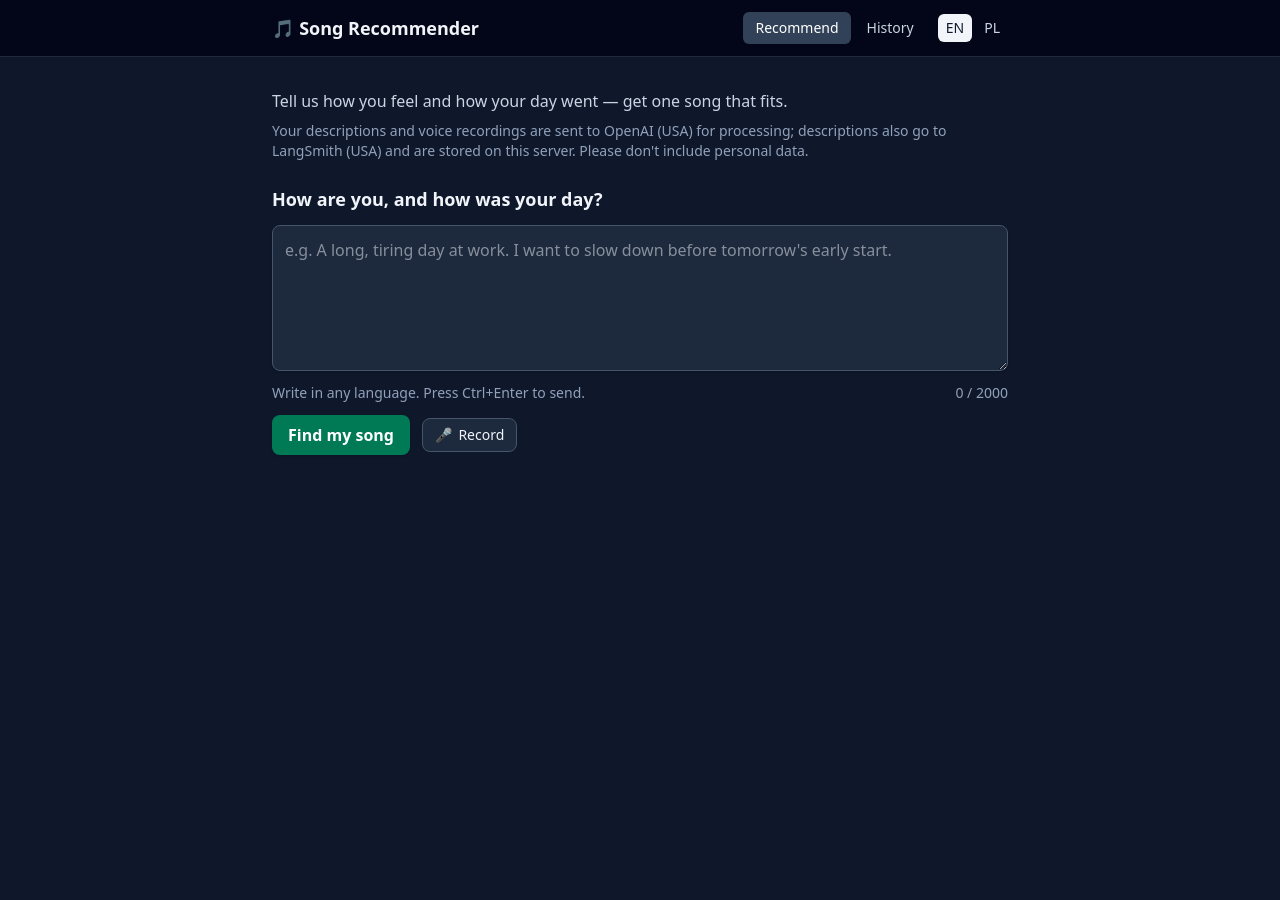
voice input › records, shows the editable transcript and sends it as voice input
Click the button "🎤 Record" at (470, 435), box [422,418,517,452]
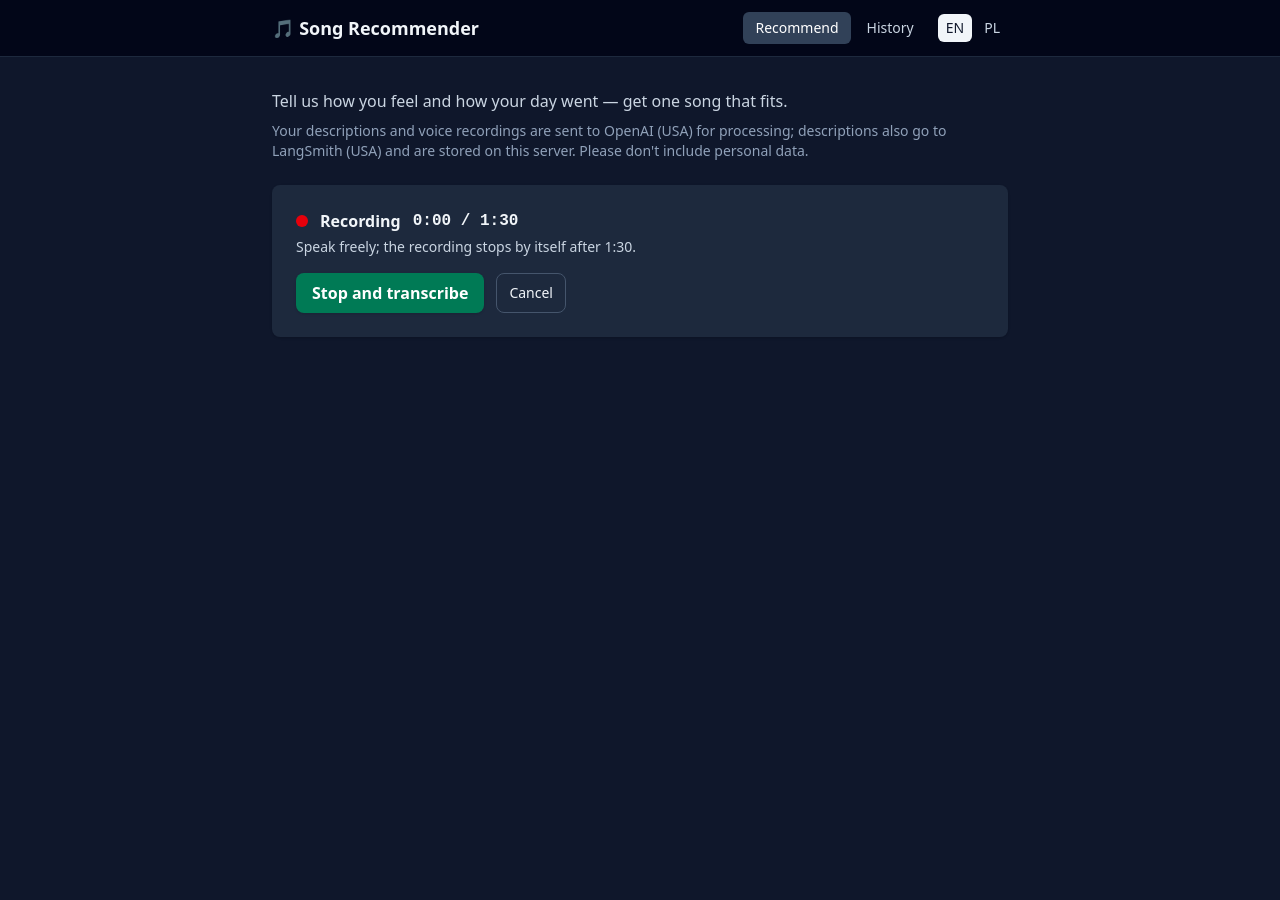
Expected: the text "0:00 / 1:30" is shown, [413,209,518,233]
Expected: the text "Recording" is shown, [320,209,401,233]
Click the button "Stop and transcribe" at (390, 293), box [296,273,484,313]
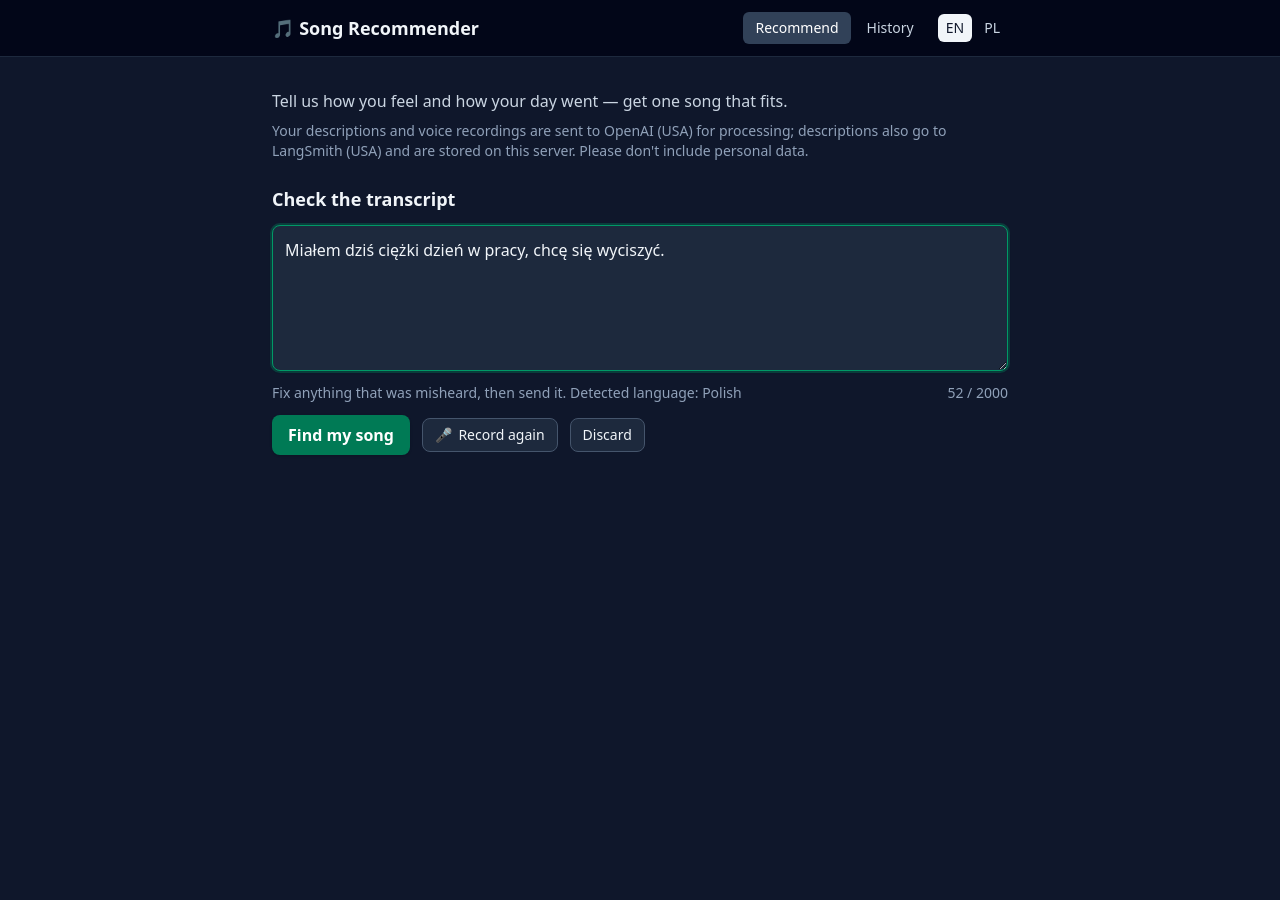
Expected: the text box labelled "Check the transcript" holds "Miałem dziś ciężki dzień w pracy, chcę się wyciszyć."
Expected: the text "Detected language: Polish" is shown, [570,383,742,402]
Type " Coś instrumentalnego." into the text box labelled "Check the transcript" at (640, 298), box [272,225,1008,371]
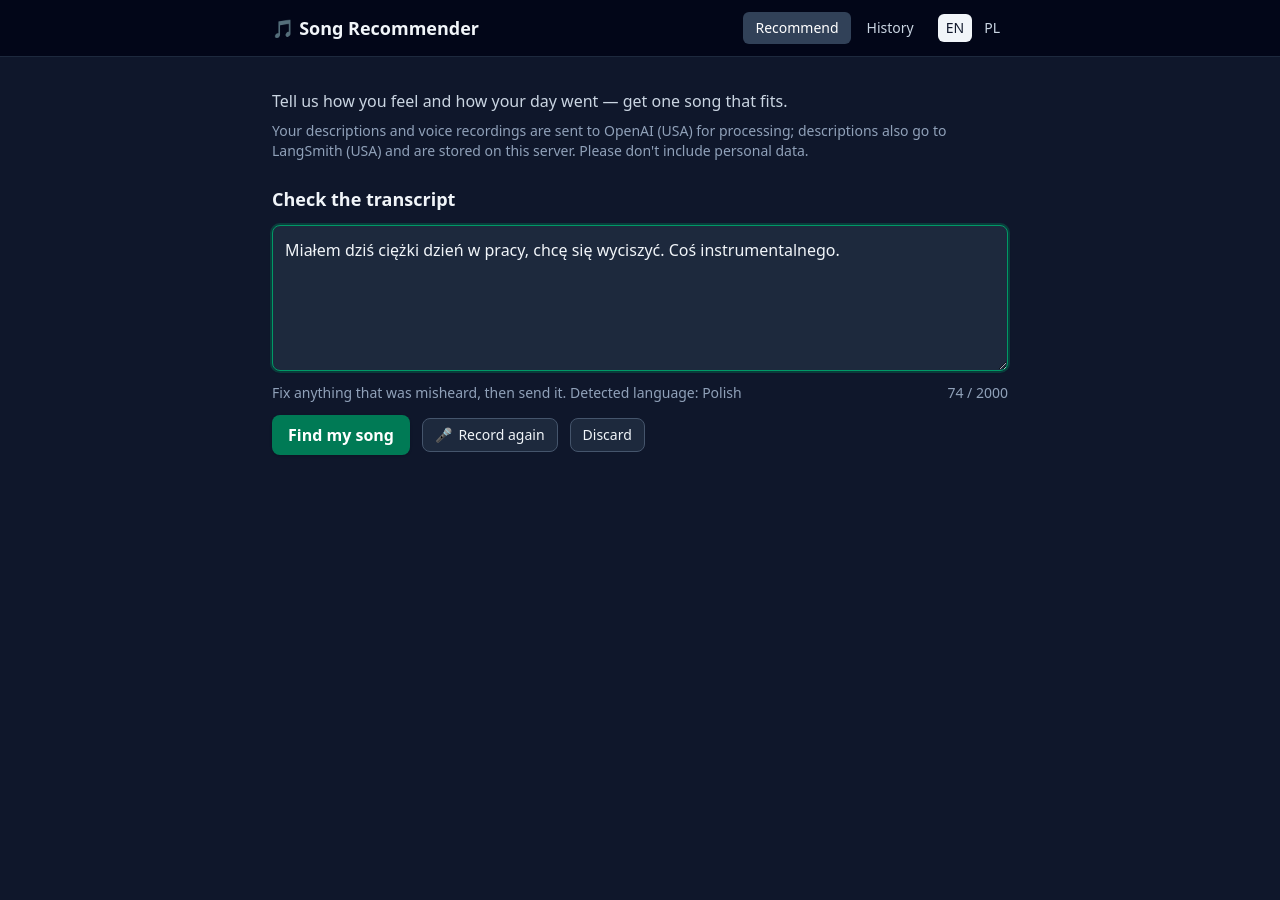
Click the button "Find my song" at (341, 435), box [272,415,410,455]
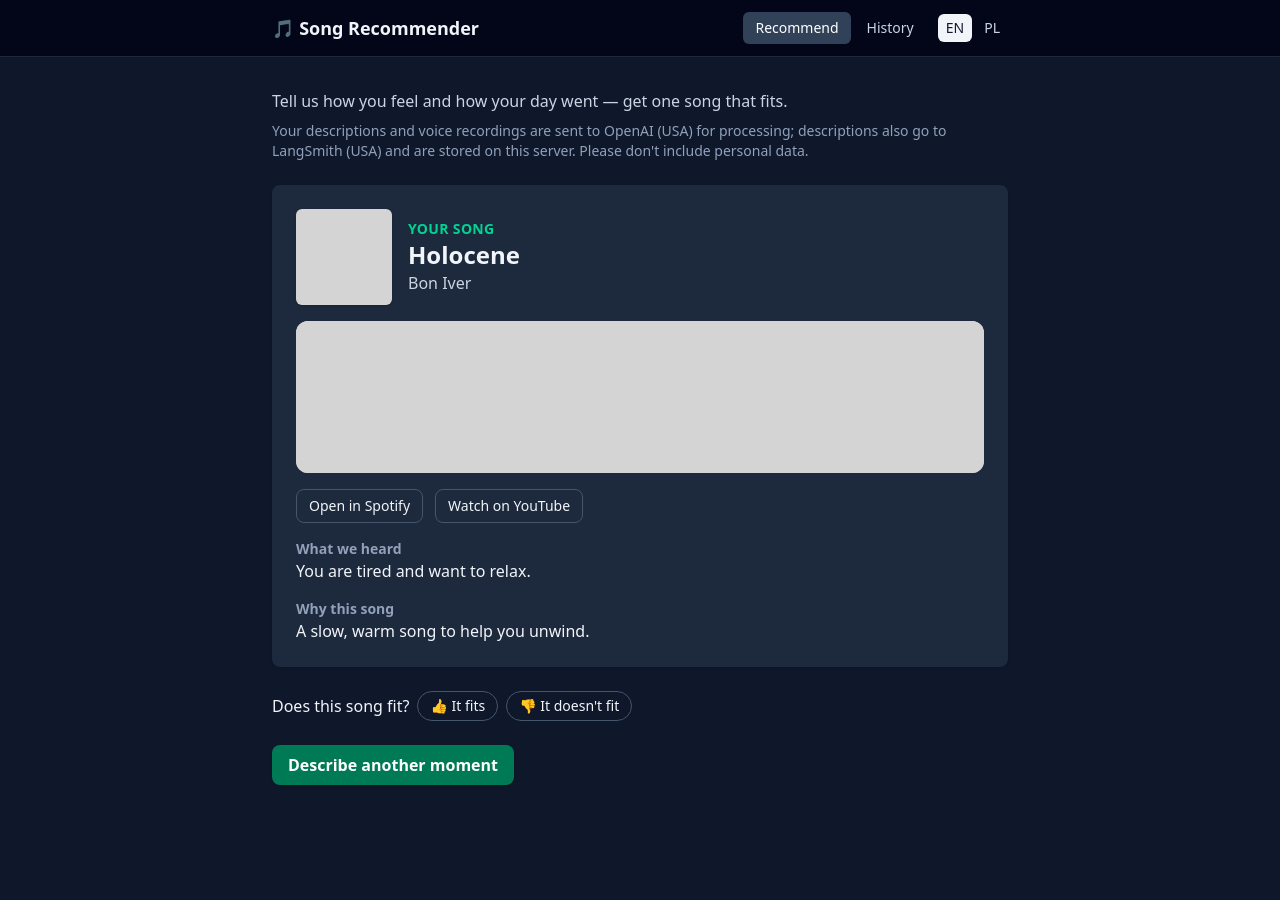
Expected: the heading "Holocene" is shown, [408,239,520,271]
